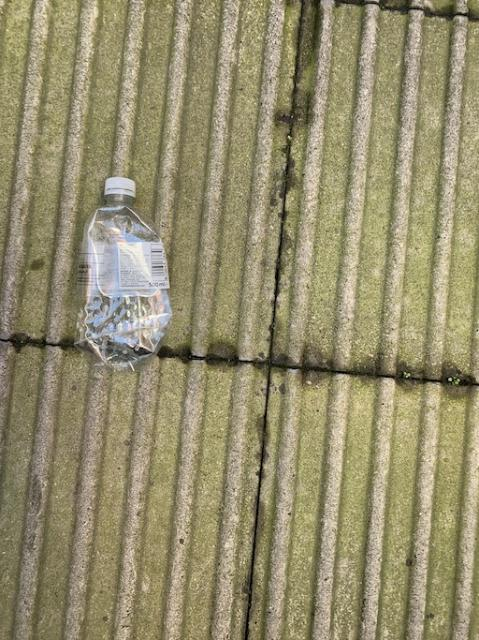plastic: (74, 176, 171, 369)
